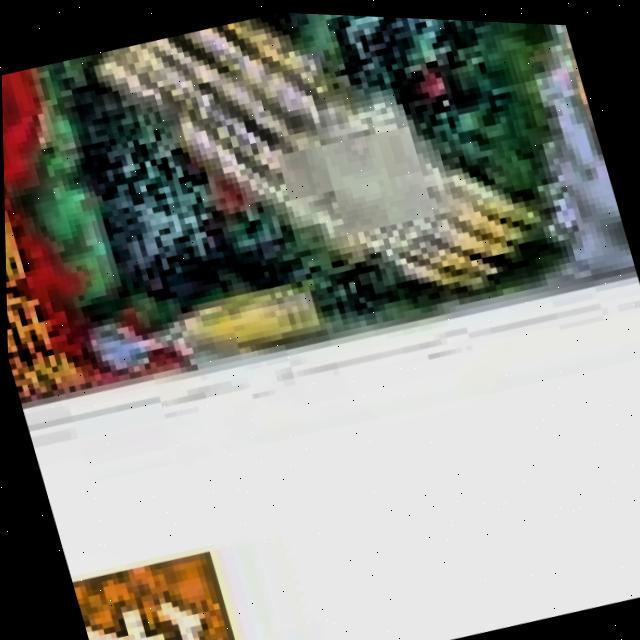metal: (0, 0, 640, 447)
